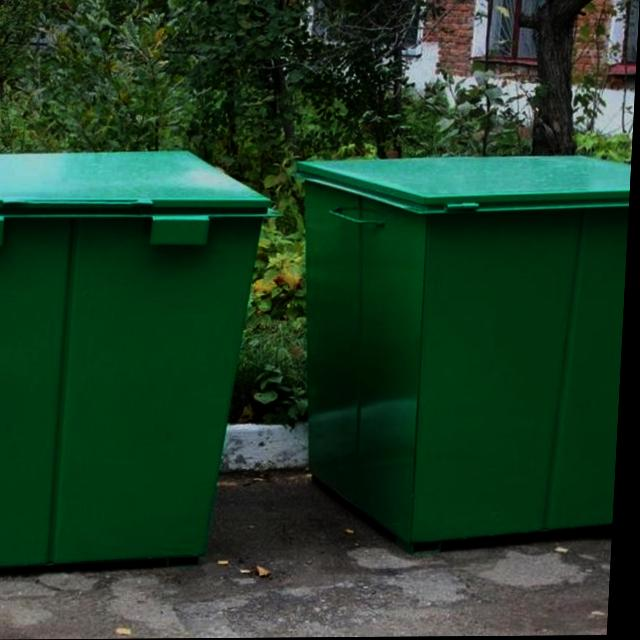Trash_Can_Closed: (300, 158, 632, 545), (0, 152, 270, 568)
